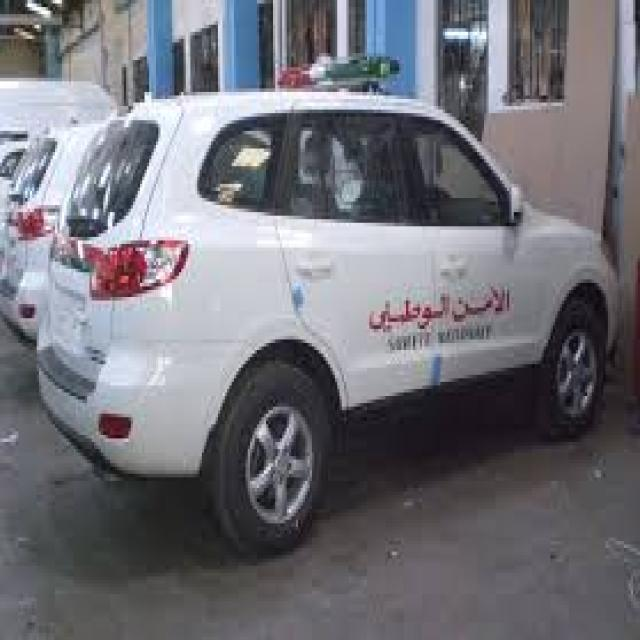police: (45, 54, 614, 554)
